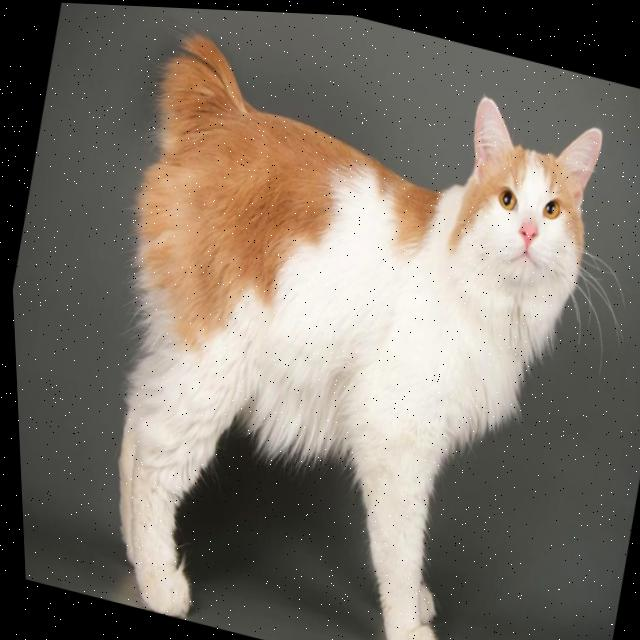American Bobtail: (41, 2, 629, 640)
